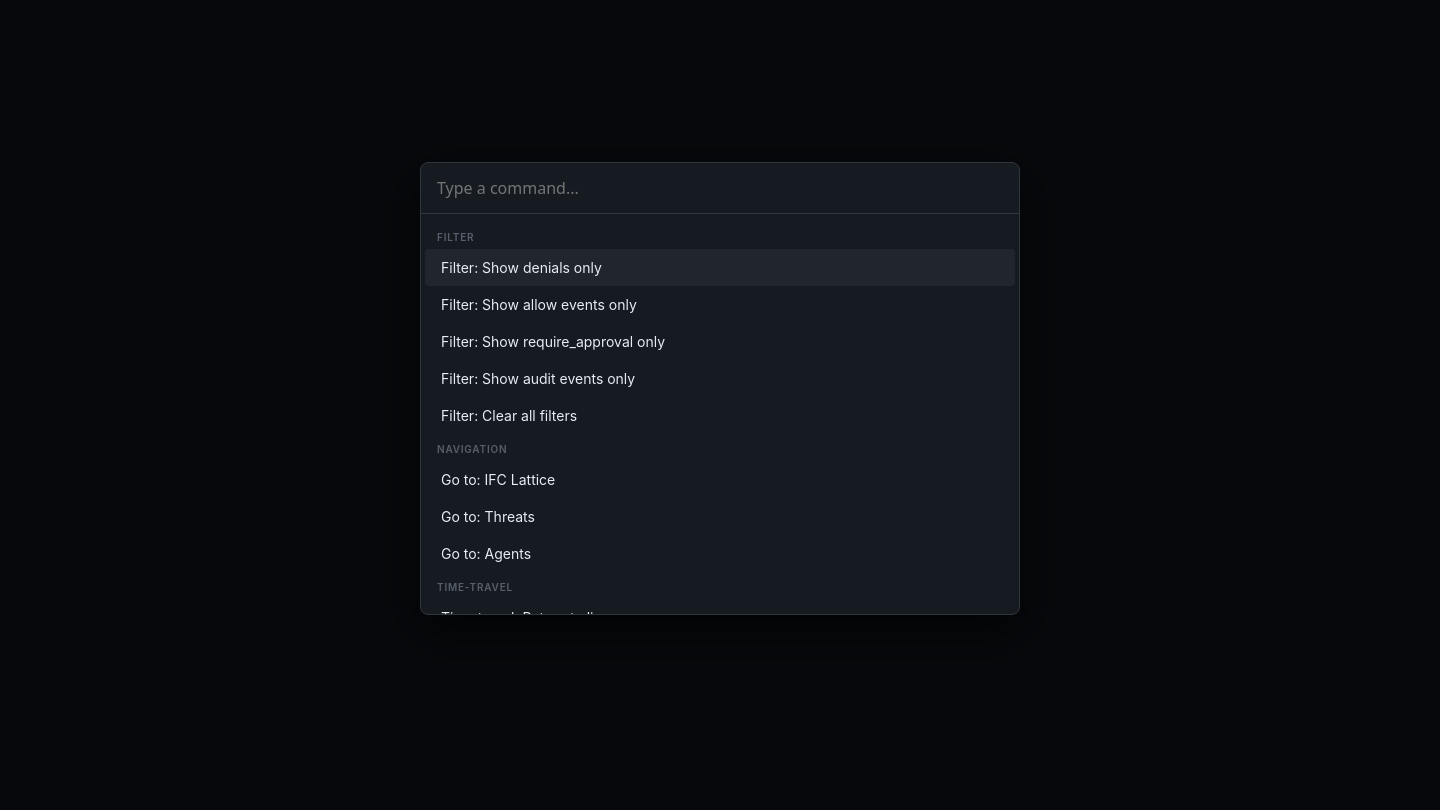
Test case: CommandPalette › filters commands by search query
The width and height of the screenshot is (1440, 810).
Step 1. Type "deny" into the field named "Search commands" → (720, 188), box x1=421 y1=163 x2=1019 y2=214
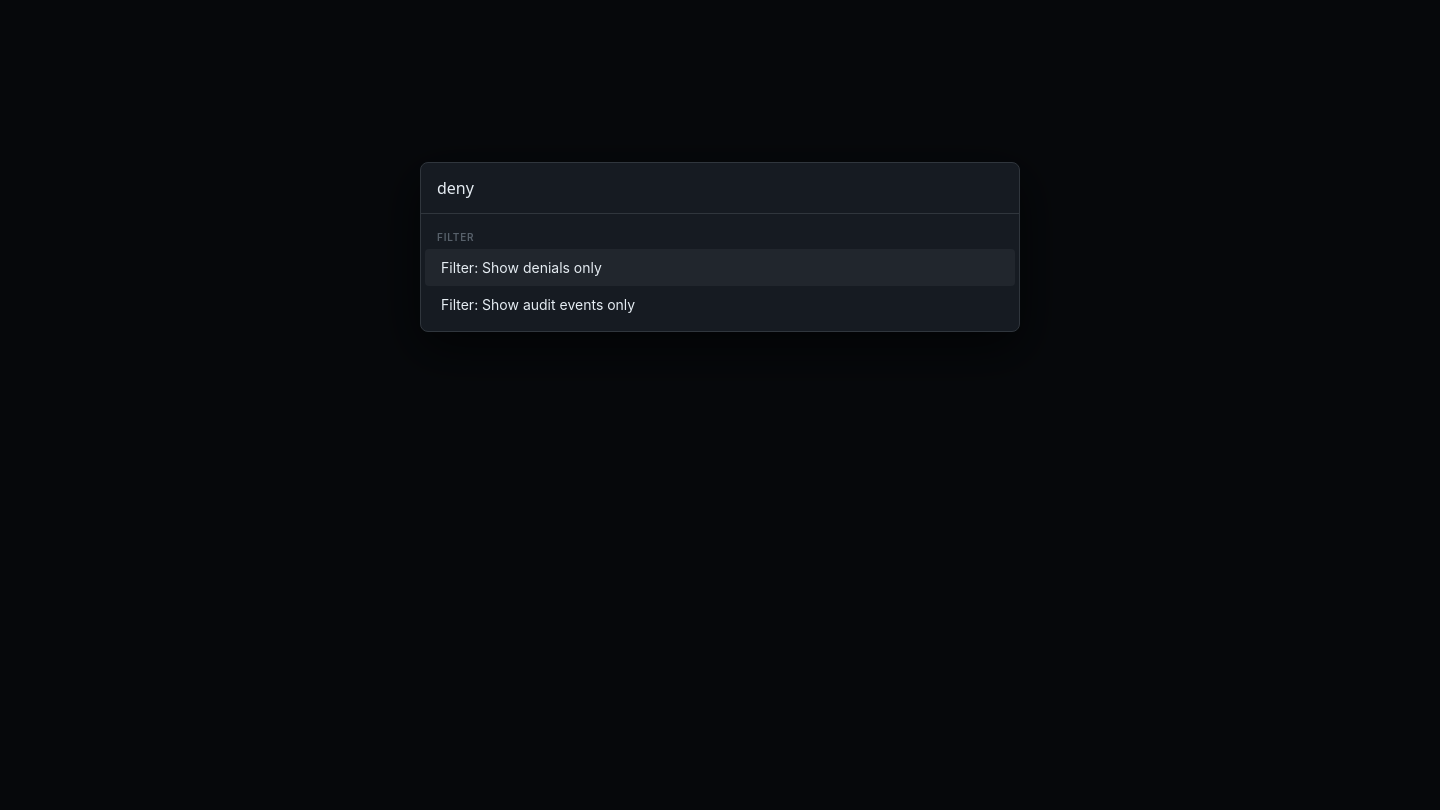
Check: the option "Filter: Show denials only" is shown, box x1=425 y1=249 x2=1015 y2=286
Check: the option "Filter: Show allow events only" is gone
